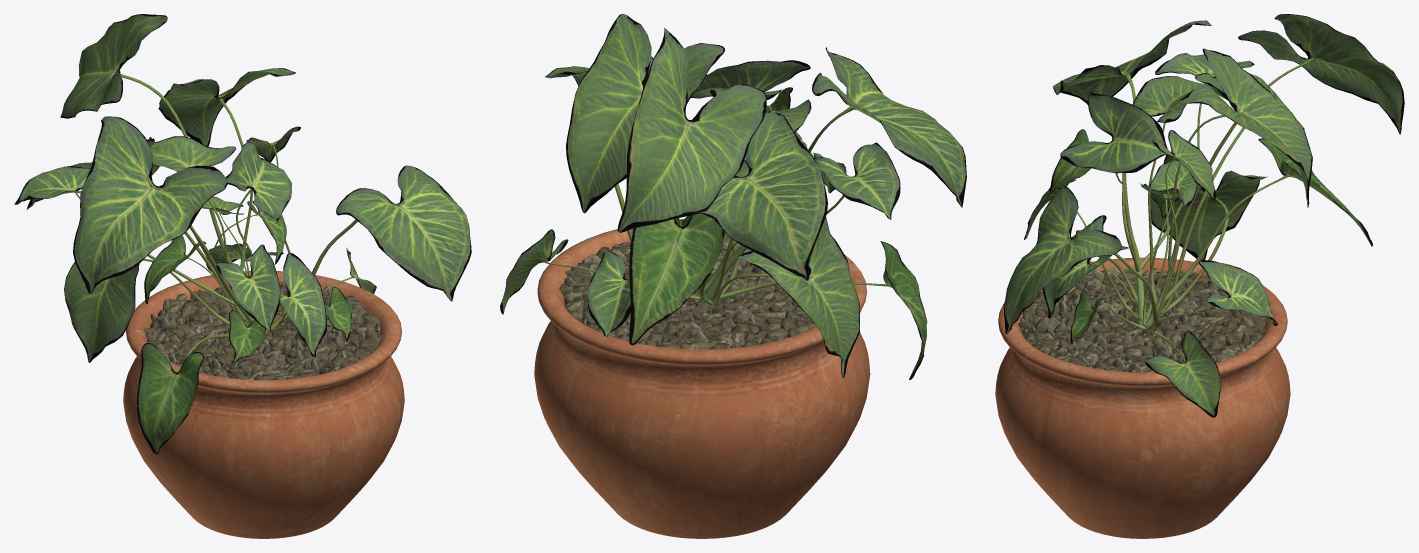
Rendered from potted_plant_02.glb.
3 views of the same model, side by side, from view 1: azimuth 30°, elevation 25°; view 2: azimuth 150°, elevation 25°; view 3: azimuth 270°, elevation 25° (orthographic). The views are drawn at different scales.
Visible parts, largest first — view 1: potted_plant_02_leaves, potted_plant_02_pot, potted_plant_02_dirt; view 2: potted_plant_02_leaves, potted_plant_02_pot, potted_plant_02_dirt; view 3: potted_plant_02_leaves, potted_plant_02_pot, potted_plant_02_dirt.
Boxes of the visible parts, box(x1,y1,x2,y2) form: potted_plant_02_leaves: box(14, 14, 471, 454); potted_plant_02_pot: box(123, 271, 404, 538); potted_plant_02_dirt: box(143, 282, 383, 380); potted_plant_02_leaves: box(500, 14, 966, 379); potted_plant_02_pot: box(534, 219, 870, 538); potted_plant_02_dirt: box(559, 234, 816, 349); potted_plant_02_leaves: box(1004, 14, 1404, 417); potted_plant_02_pot: box(995, 257, 1290, 538); potted_plant_02_dirt: box(1018, 267, 1266, 372).
Size of the model in its own units: 0.7012 by 0.8412 by 0.6574.
Materials: 2 (2 with a texture image).
